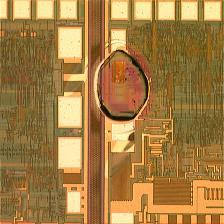PARTICLE: (92, 48, 154, 153)
